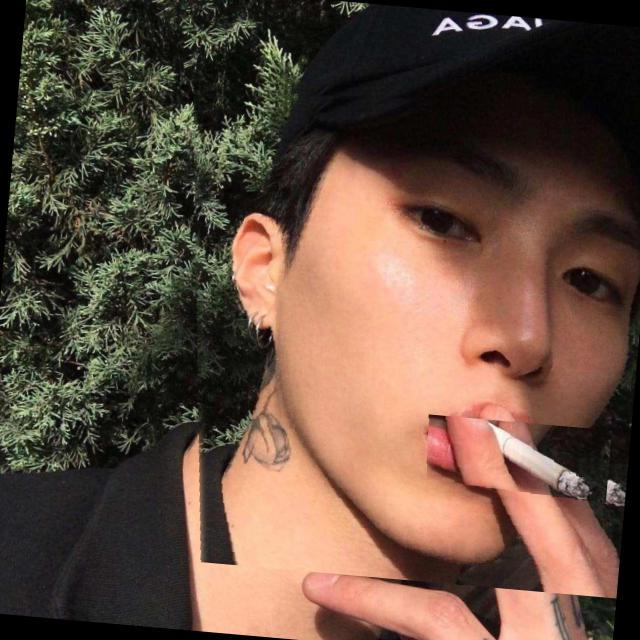cigarette: (422, 414, 612, 503)
